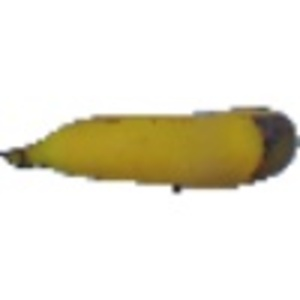banana: (1, 99, 297, 191)
